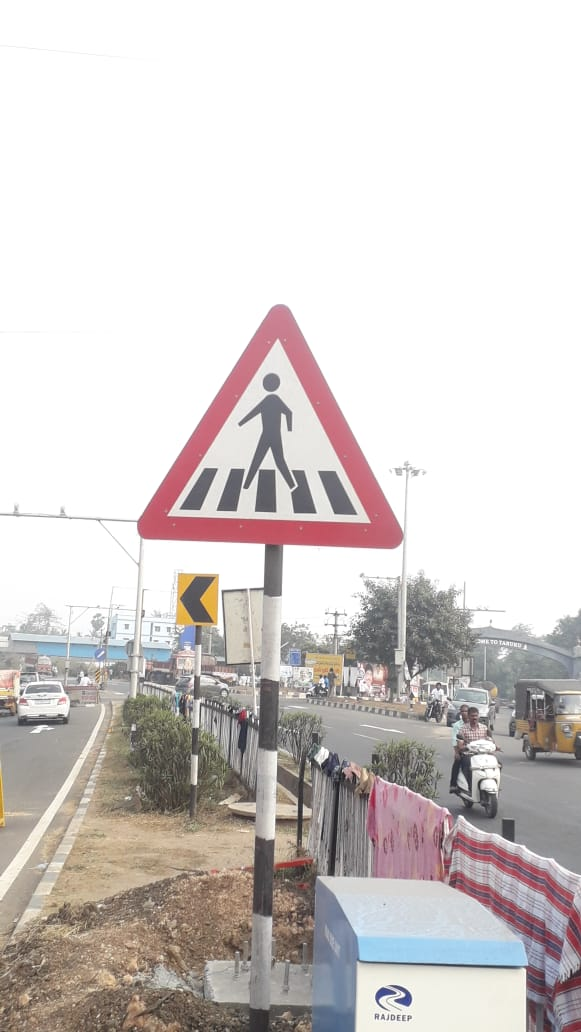pedestrian crossing: (134, 271, 406, 614)
